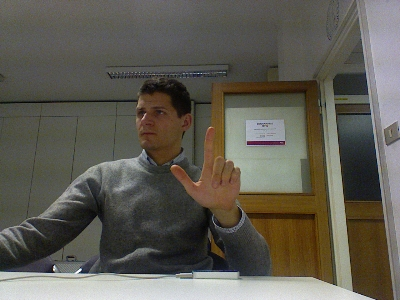枪: (169, 125, 241, 211)
